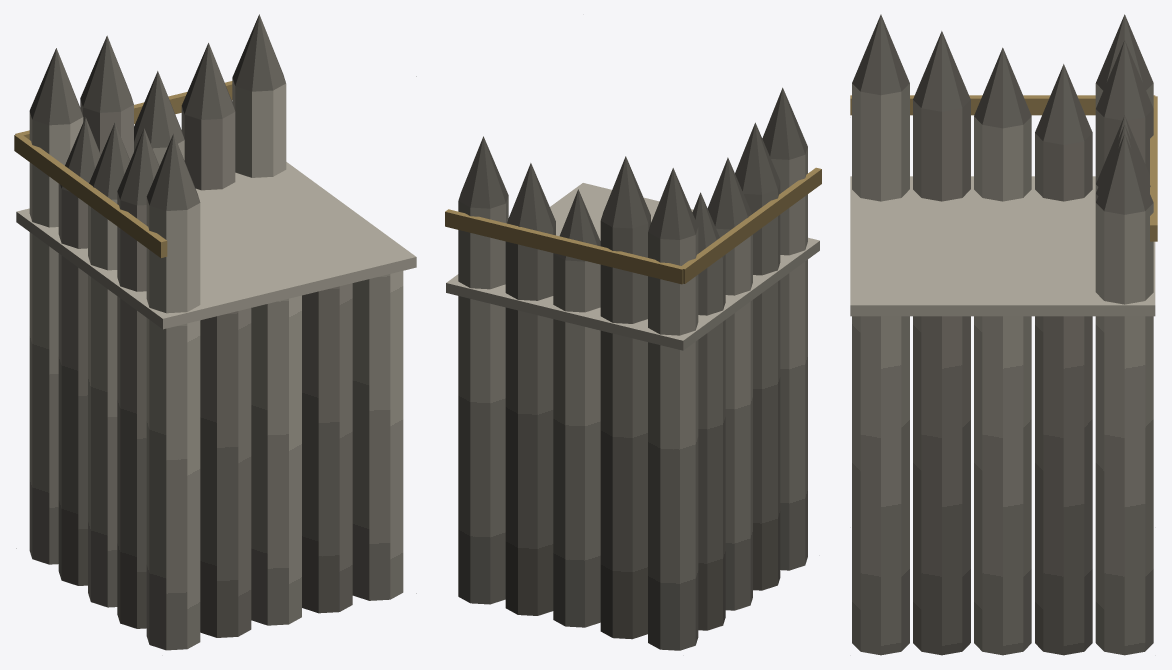
The model's file is perimeter_wall_stone_f6.glb.
3 renders of one model, left to right at view 1: azimuth 30°, elevation 25°; view 2: azimuth 150°, elevation 25°; view 3: azimuth 270°, elevation 25°, orthographic. The views are drawn at different scales.
Bounding box in the file's own units: 2.01 × 3.9 × 2.01.
Materials: 1 (1 with a texture image).
